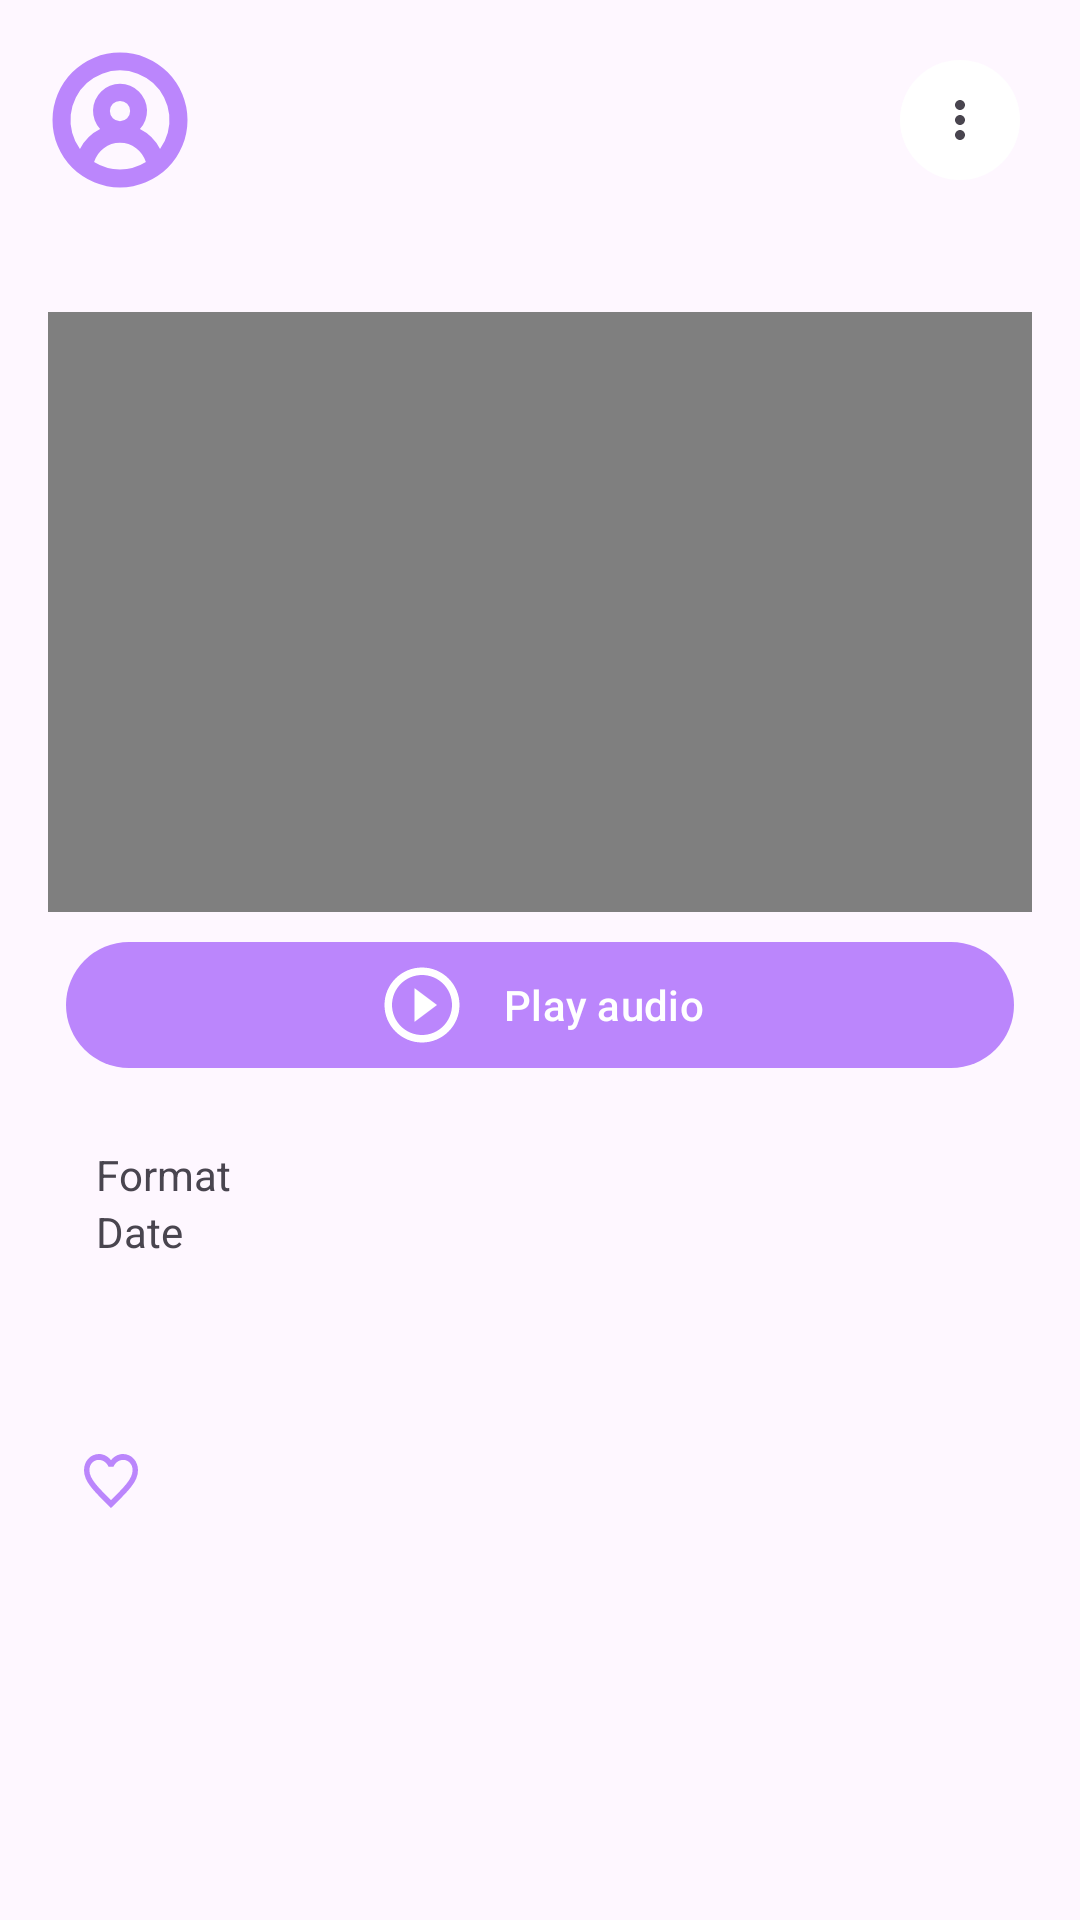

Where to tap for icons on this 1080 × 1920 app screen, as point (x, y):
Avatar: point (120, 120)
